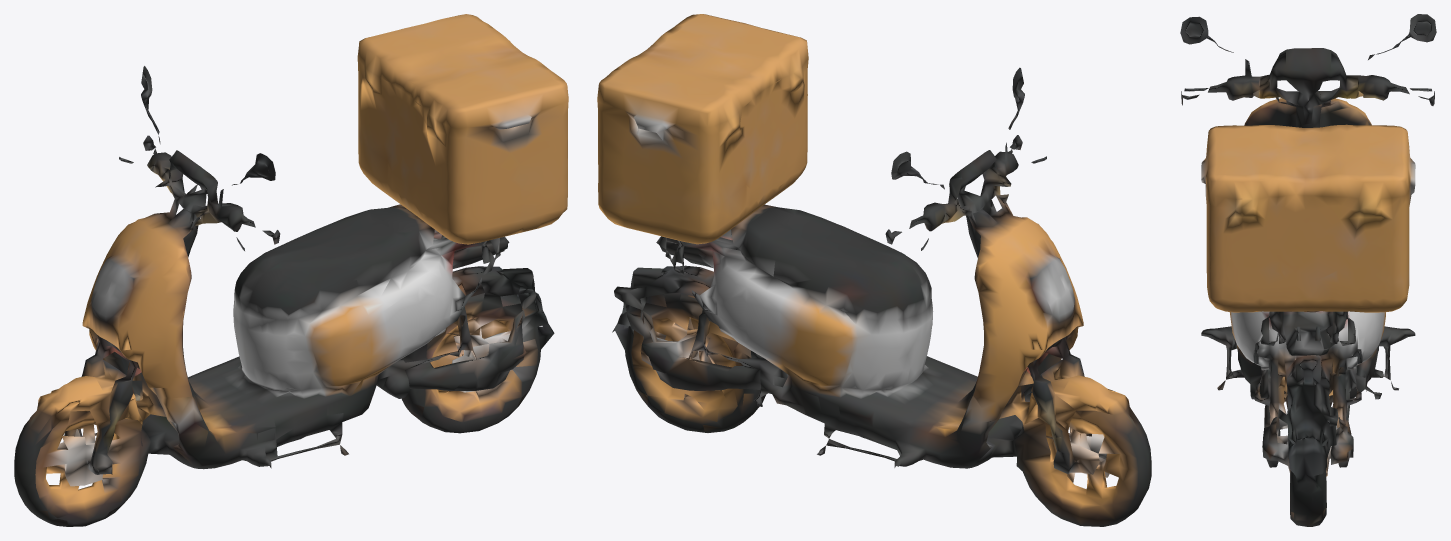
File: scooter_express_3d.glb
3 renders of one model, left to right at view 1: azimuth 30°, elevation 25°; view 2: azimuth 150°, elevation 25°; view 3: azimuth 270°, elevation 25°, orthographic.
Visible parts, largest first — view 1: DeliveryScooter3D; view 2: DeliveryScooter3D; view 3: DeliveryScooter3D.
Part boxes in pixels (x1,y1,x2,y2): DeliveryScooter3D: (14, 14, 568, 526); DeliveryScooter3D: (597, 14, 1151, 526); DeliveryScooter3D: (1180, 14, 1436, 526).
Bounding box in the file's own units: 1.88 × 1.3 × 0.7998.
